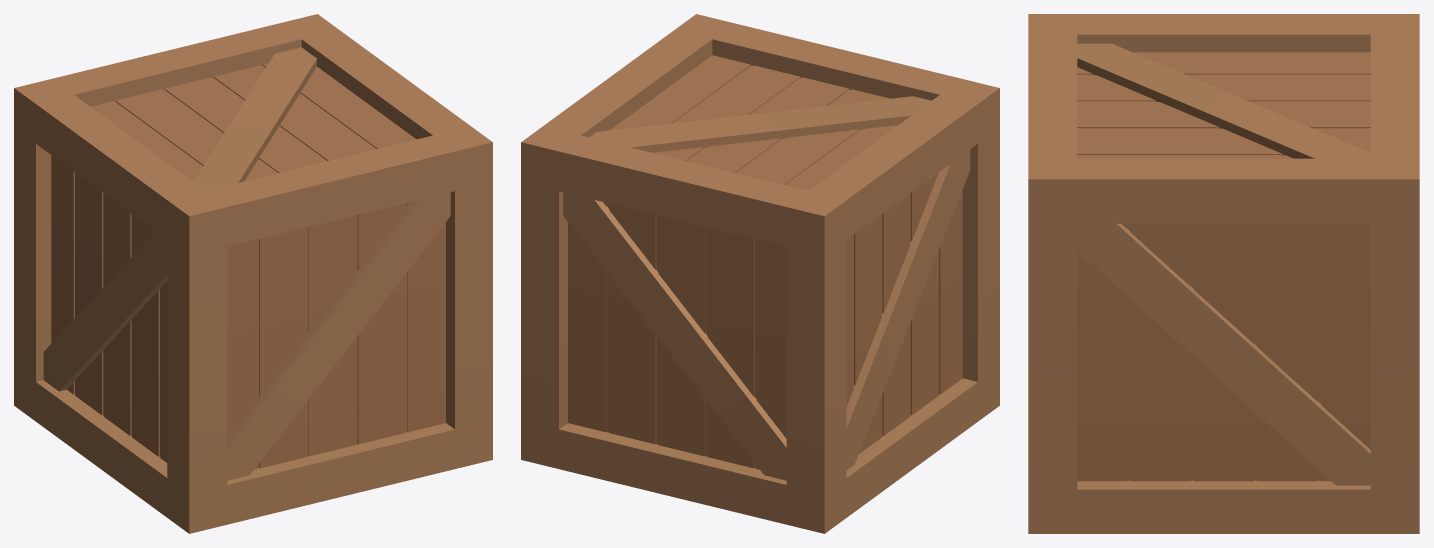
File: SM_Crate_01.glb
3 views of the same model, side by side, from view 1: azimuth 30°, elevation 25°; view 2: azimuth 150°, elevation 25°; view 3: azimuth 270°, elevation 25° (orthographic). The views are drawn at different scales.
Parts seen in each view (by area): view 1: SM_Crate_01; view 2: SM_Crate_01; view 3: SM_Crate_01.
Boxes of the visible parts, left/top/right/bottom form: SM_Crate_01: left=14, top=14, right=492, bottom=533; SM_Crate_01: left=521, top=14, right=999, bottom=533; SM_Crate_01: left=1028, top=14, right=1419, bottom=533.
Size of the model in its own units: 1 by 1 by 1.
Materials: 1 (1 with a texture image).
